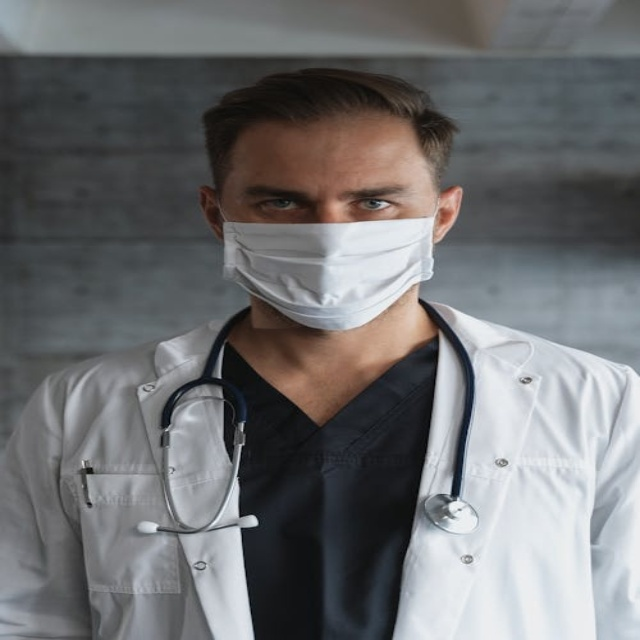Mascara: (218, 197, 438, 329)
Sin_gafas: (232, 169, 421, 218)
